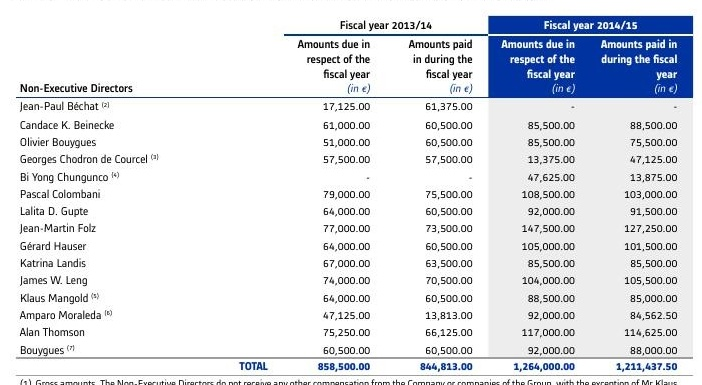table: (0, 0, 702, 385)
